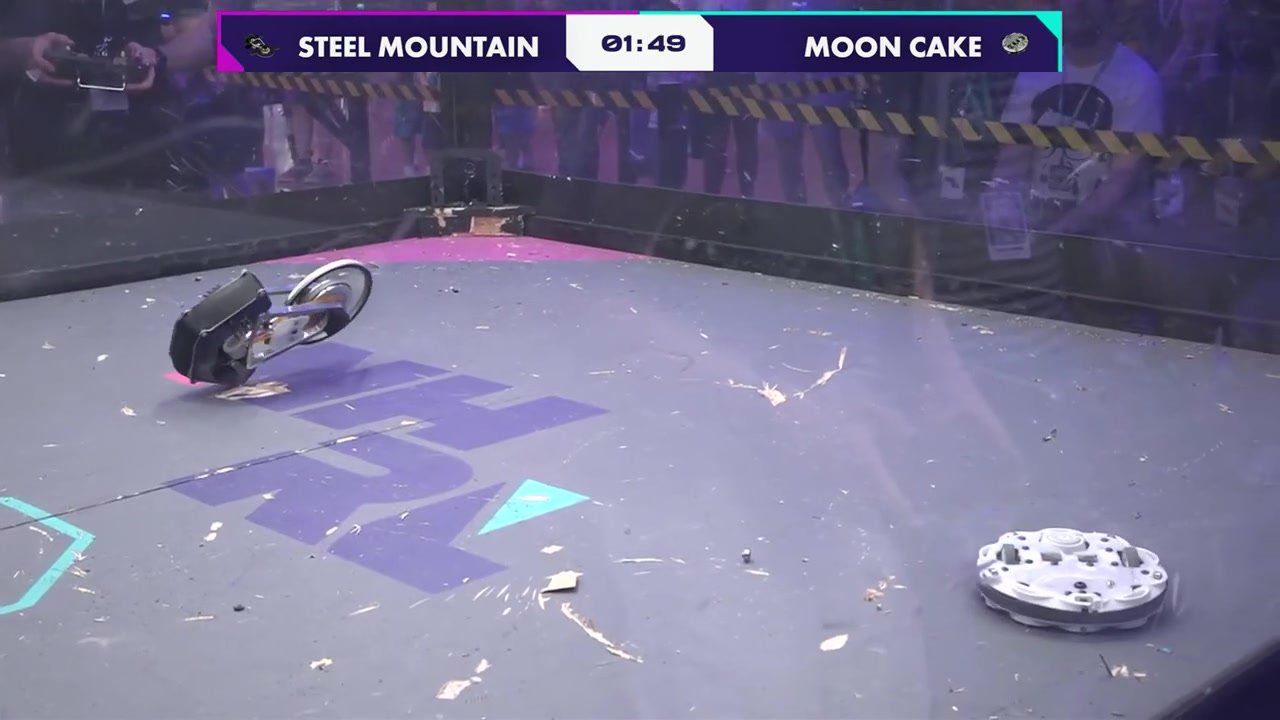combatbot: (169, 259, 374, 389), (973, 530, 1178, 634)
